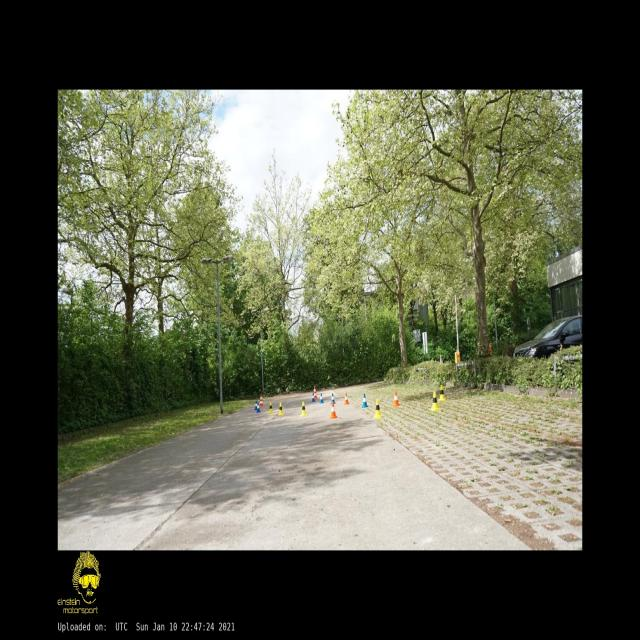blue_cone: (362, 394, 368, 407), (319, 394, 324, 403), (256, 403, 261, 412), (331, 393, 335, 404), (312, 393, 315, 402), (255, 402, 257, 411)
large_orange_cone: (259, 394, 263, 407), (314, 386, 317, 399)
orange_cone: (393, 392, 400, 406), (330, 402, 336, 418), (344, 393, 349, 404)
yellow_cone: (432, 392, 439, 410), (374, 400, 381, 417), (438, 386, 445, 400), (300, 402, 306, 415), (278, 403, 284, 414), (268, 402, 273, 413)
